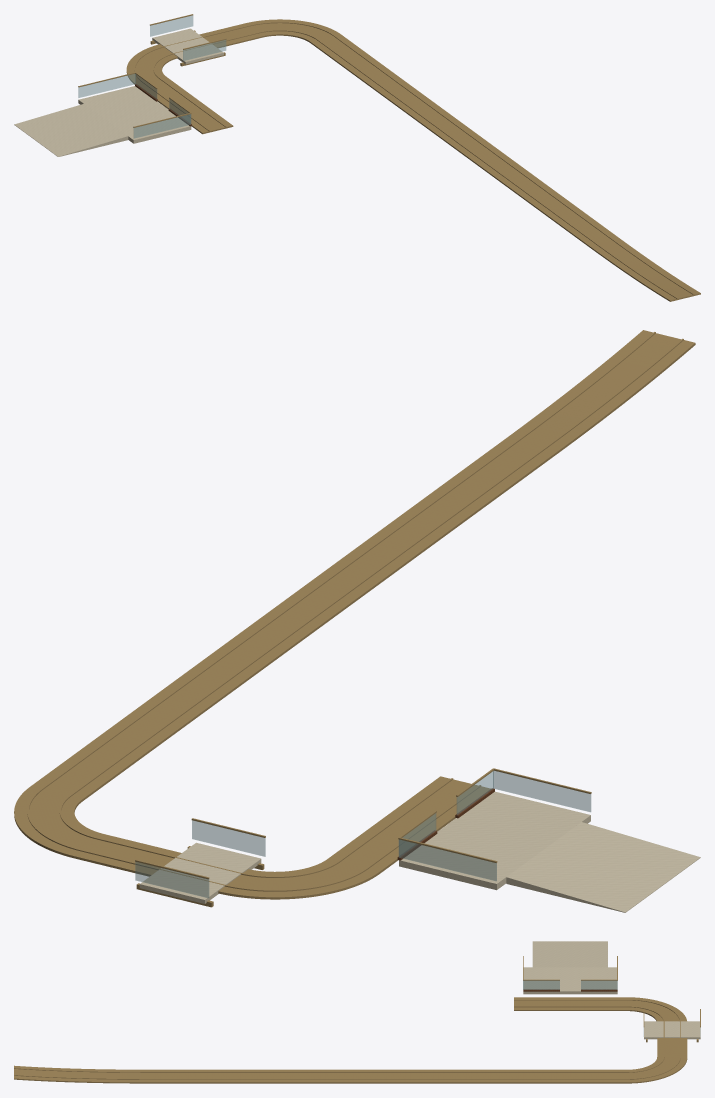
The model's file is LowerDeparture.glb.
3 renders of one model, top to bottom at view 1: azimuth 30°, elevation 25°; view 2: azimuth 150°, elevation 25°; view 3: azimuth 270°, elevation 25°, orthographic. The views are drawn at different scales.
Visible parts, largest first — view 1: LowerRail_OriginalSectionWeb, FORWARD_LowerPlatform, FORWARD_AlightingRamp, FORWARD_BoardingRamp, LowerExit_MissingOnlyFloor, LowerRail_Starboard, LowerRail_Port, FORWARD_SouthReturnGlass, FORWARD_NorthReturnGlass, LowerExit_NorthGlass, LowerExit_SouthGlass; view 2: LowerRail_OriginalSectionWeb, FORWARD_LowerPlatform, FORWARD_BoardingRamp, FORWARD_AlightingRamp, LowerExit_MissingOnlyFloor, LowerRail_Starboard, LowerRail_Port, FORWARD_SouthReturnGlass, FORWARD_NorthReturnGlass, LowerExit_NorthGlass, LowerExit_SouthGlass; view 3: LowerRail_OriginalSectionWeb, FORWARD_LowerPlatform, LowerRail_Starboard, LowerRail_Port, FORWARD_AlightingRamp, FORWARD_BoardingRamp, LowerExit_MissingOnlyFloor, FORWARD_NorthPlatformGlass, FORWARD_SouthPlatformGlass.
Boxes of the visible parts, bbox=[...] form: LowerRail_OriginalSectionWeb: bbox=[126, 19, 700, 301]; FORWARD_LowerPlatform: bbox=[78, 86, 191, 143]; FORWARD_AlightingRamp: bbox=[36, 120, 128, 156]; FORWARD_BoardingRamp: bbox=[14, 104, 105, 140]; LowerExit_MissingOnlyFloor: bbox=[152, 28, 223, 64]; LowerRail_Starboard: bbox=[134, 22, 694, 294]; LowerRail_Port: bbox=[153, 30, 677, 298]; FORWARD_SouthReturnGlass: bbox=[133, 114, 191, 138]; FORWARD_NorthReturnGlass: bbox=[78, 74, 135, 97]; LowerExit_NorthGlass: bbox=[150, 15, 193, 36]; LowerExit_SouthGlass: bbox=[183, 40, 226, 60]; LowerRail_OriginalSectionWeb: bbox=[14, 330, 695, 899]; FORWARD_LowerPlatform: bbox=[399, 791, 590, 890]; FORWARD_BoardingRamp: bbox=[506, 849, 662, 912]; FORWARD_AlightingRamp: bbox=[544, 822, 700, 884]; LowerExit_MissingOnlyFloor: bbox=[139, 842, 261, 903]; LowerRail_Starboard: bbox=[27, 332, 655, 891]; LowerRail_Port: bbox=[59, 338, 683, 877]; FORWARD_SouthReturnGlass: bbox=[493, 771, 591, 812]; FORWARD_NorthReturnGlass: bbox=[398, 839, 496, 881]; LowerExit_NorthGlass: bbox=[135, 862, 209, 898]; LowerExit_SouthGlass: bbox=[192, 820, 265, 856]; LowerRail_OriginalSectionWeb: bbox=[14, 997, 687, 1083]; FORWARD_LowerPlatform: bbox=[523, 967, 617, 994]; LowerRail_Starboard: bbox=[14, 999, 680, 1079]; LowerRail_Port: bbox=[14, 1006, 664, 1072]; FORWARD_AlightingRamp: bbox=[532, 941, 570, 967]; FORWARD_BoardingRamp: bbox=[570, 941, 607, 967]; LowerExit_MissingOnlyFloor: bbox=[644, 1021, 700, 1039]; FORWARD_NorthPlatformGlass: bbox=[581, 980, 617, 989]; FORWARD_SouthPlatformGlass: bbox=[523, 980, 559, 989].
Size of the model in its own units: 35.3 by 2.13 by 72.89.
Materials: 4 (3 with a texture image).
